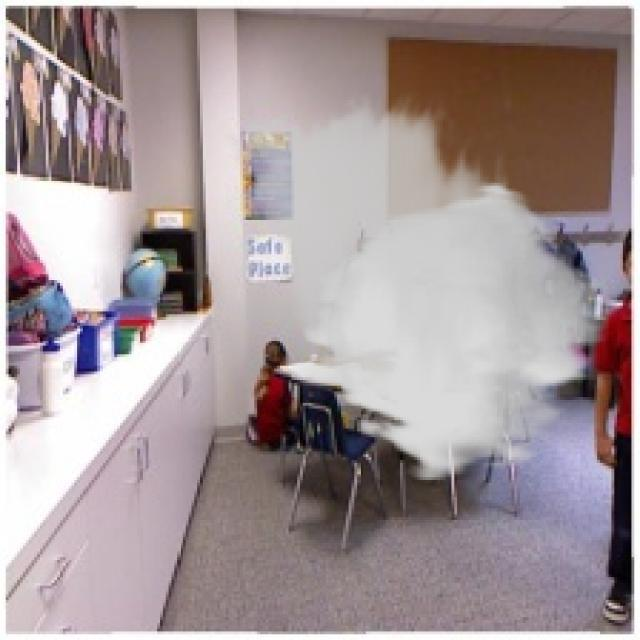Smoke: (217, 91, 609, 483)
